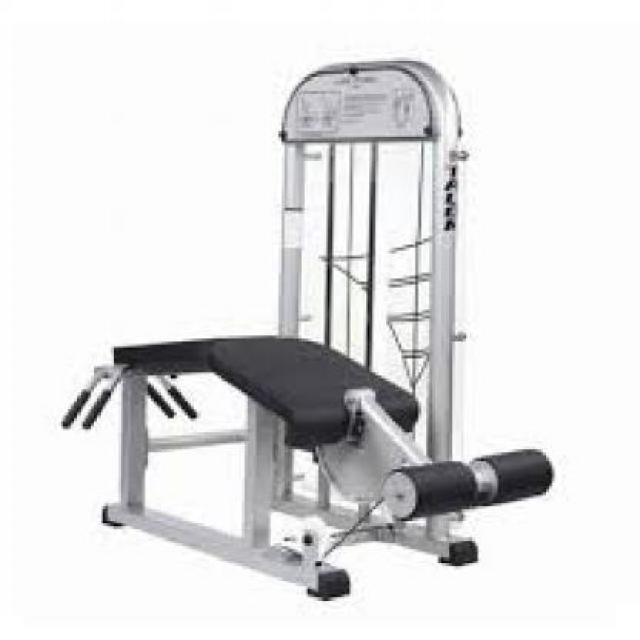reg curl machine: (54, 58, 560, 604)
